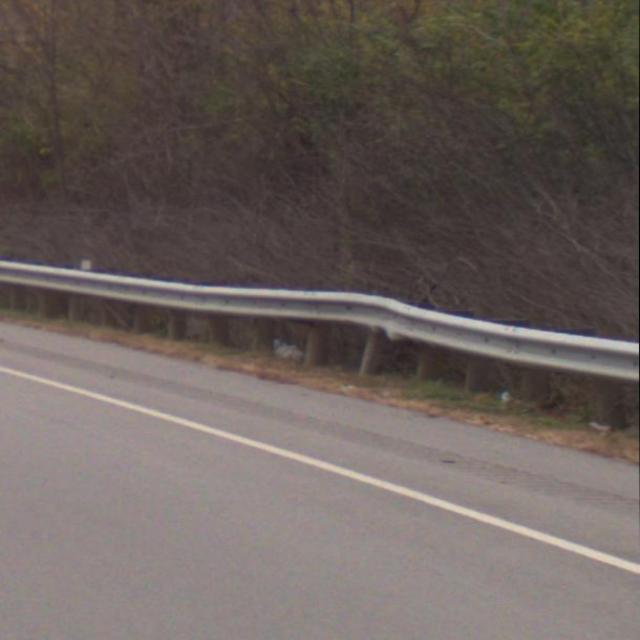Guard rail: (0, 253, 640, 441)
